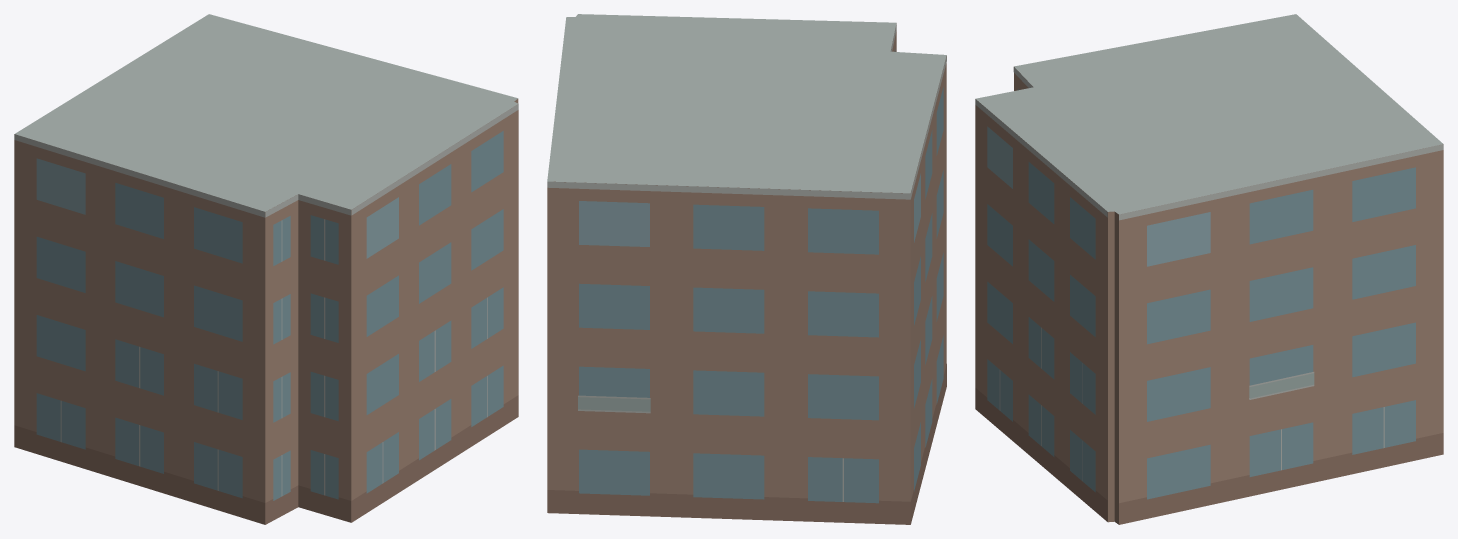
Rendered from survey-upis-32707217.glb.
3 views of the same model, side by side, from view 1: azimuth 30°, elevation 25°; view 2: azimuth 150°, elevation 25°; view 3: azimuth 270°, elevation 25° (orthographic). The views are drawn at different scales.
Visible parts, largest first — view 1: survey-upis-32707217.tmp; view 2: survey-upis-32707217.tmp; view 3: survey-upis-32707217.tmp.
Part boxes in pixels (bbox=[...]): survey-upis-32707217.tmp: bbox=[14, 14, 518, 524]; survey-upis-32707217.tmp: bbox=[547, 14, 946, 524]; survey-upis-32707217.tmp: bbox=[975, 14, 1443, 524].
Bounding box in the file's own units: 17.89 × 12.9 × 17.65.
